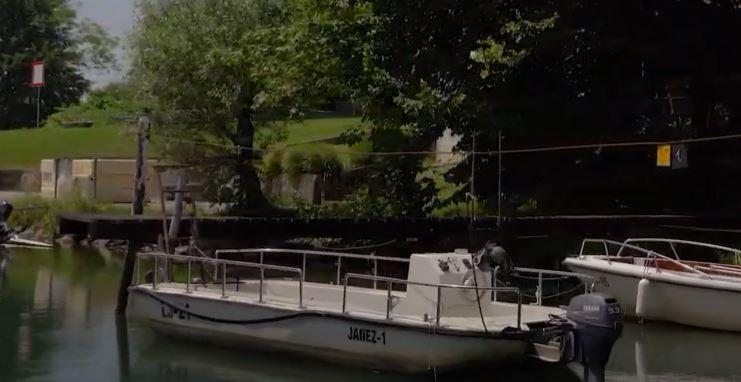Ship: (99, 217, 597, 379), (576, 222, 741, 329)
